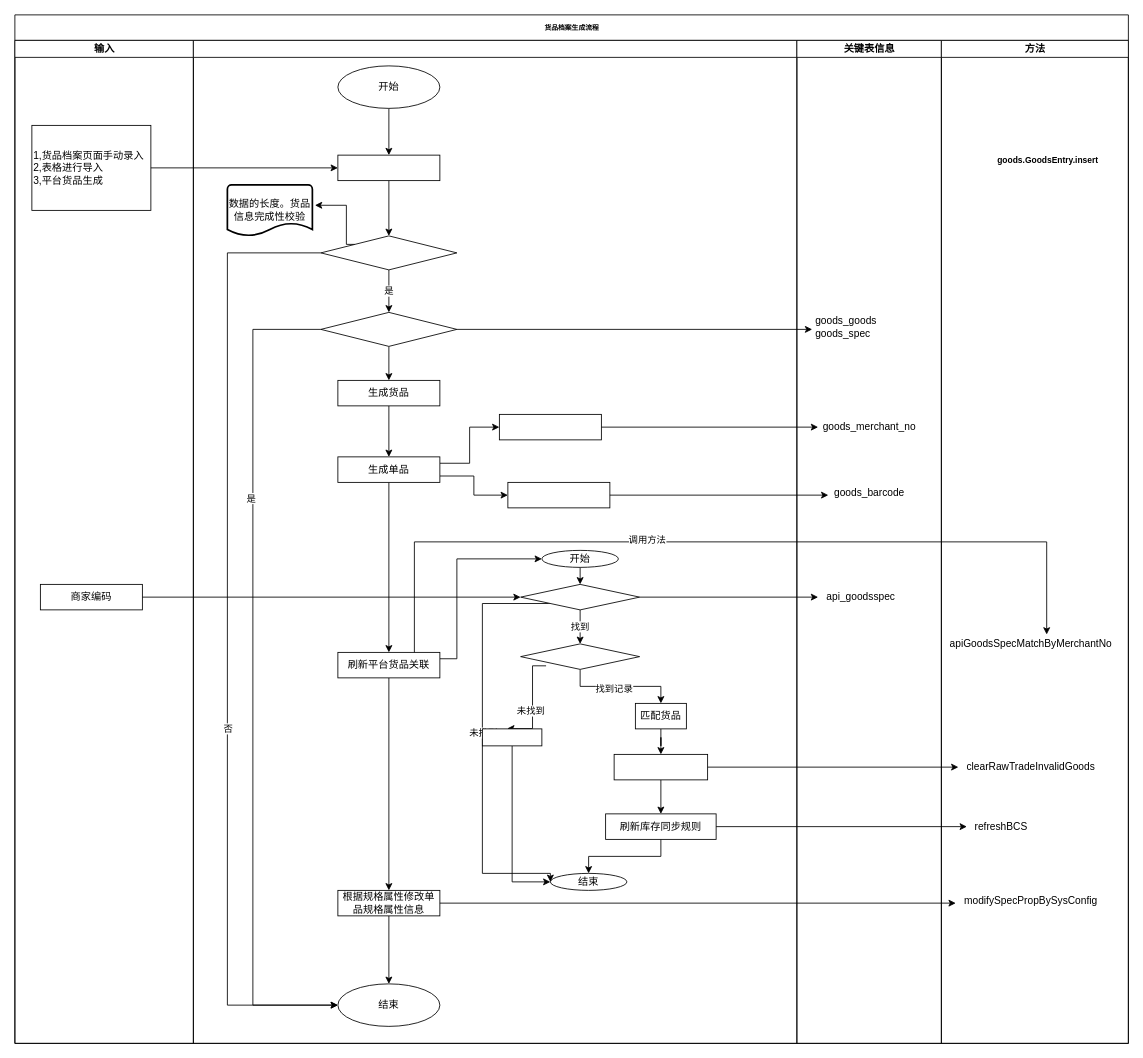
Some shapes in this 1143 by 1058 pixel diagram are drawn without their labels. Each missing label, with the centre of its shape:
"goods_merchant_no查找对应单品信息" goes at point 580,656.
"刷新无效货品" goes at point 660,767.
"基于商家编码查找对应的平台货品信息" goes at point 580,597.
"录入货品信息" goes at point 388,167.
"数据合法性校验" goes at point 388,252.
"未匹配" goes at point 512,737.
"生成商家编码" goes at point 550,427.
"生成条码" goes at point 558,495.
"货品信息重复性校验" goes at point 388,329.
